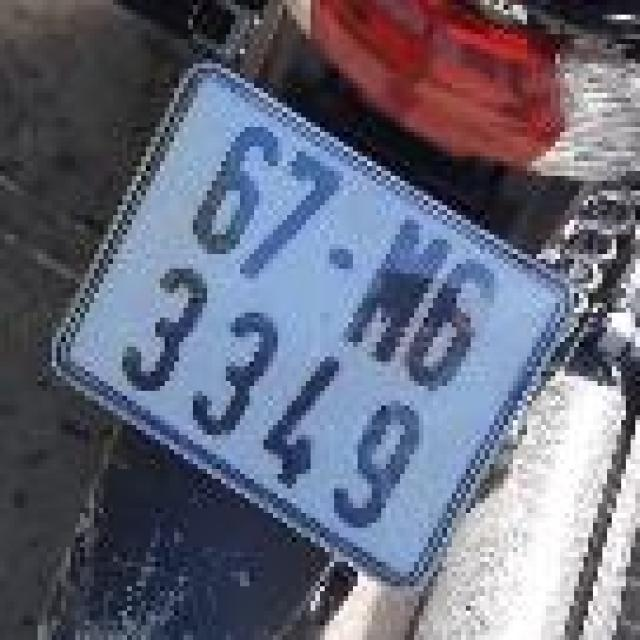3: (178, 297, 297, 452), (108, 250, 225, 407)
4: (248, 340, 372, 498)
6: (392, 244, 520, 409), (176, 109, 304, 273)
7: (232, 138, 358, 300)
9: (318, 380, 443, 546)
M: (331, 201, 466, 373)
